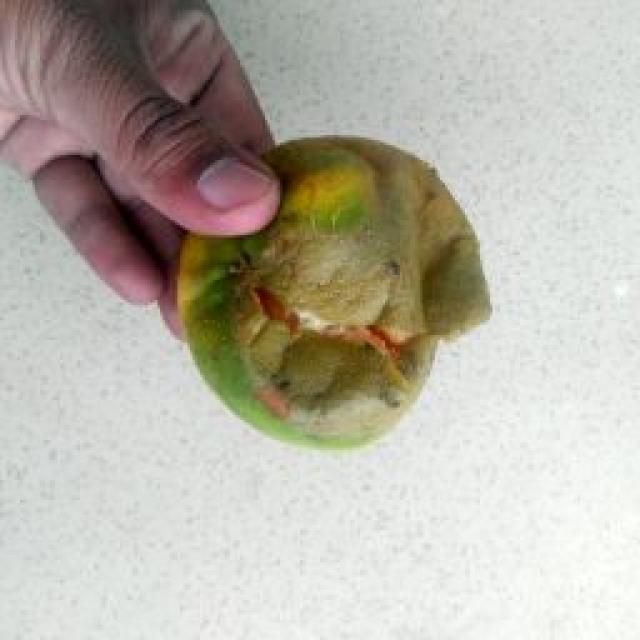Bad_Orange: (180, 138, 489, 447)
